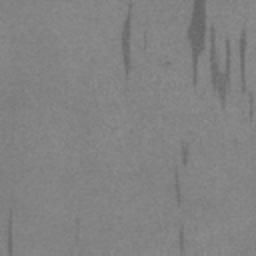Red iron sheet: (187, 0, 231, 107), (121, 3, 133, 76), (239, 30, 247, 93), (6, 208, 13, 256), (174, 172, 182, 205), (181, 146, 189, 166), (179, 228, 184, 252)
